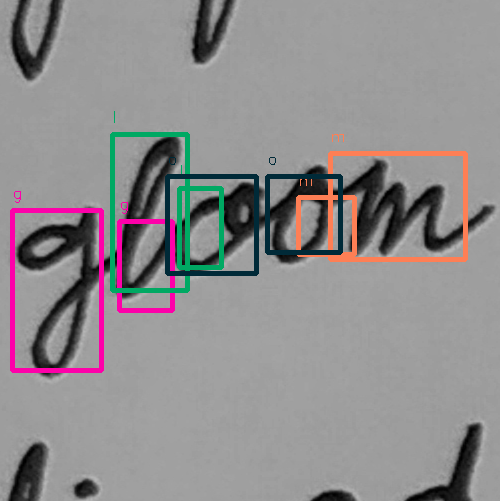g: (11, 201, 109, 383)
l: (111, 131, 189, 302)
m: (340, 153, 452, 263)
o: (168, 176, 269, 278), (271, 159, 339, 270)
